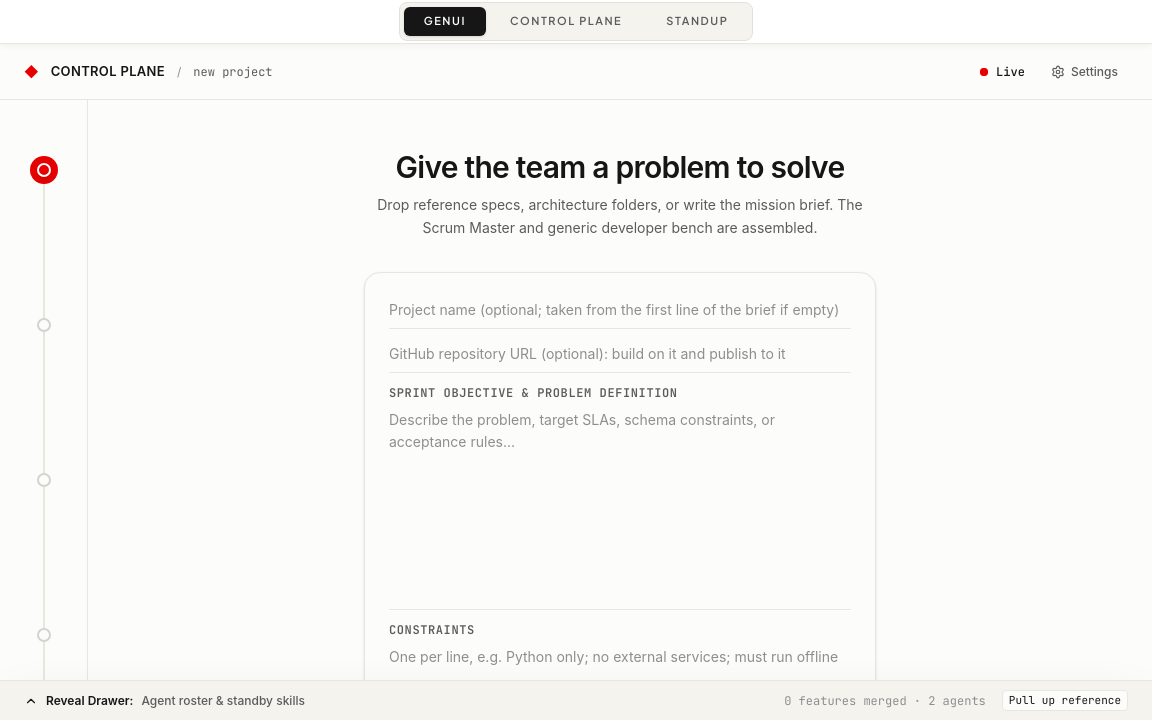
Scenario: the Memory tab › shows an agent's own memory separately from the project memory
What coordinates should you click on to do the following:
click the tab "Control Plane"
I would click on:
 (566, 22)
Its box is top-left (490, 7), bottom-right (642, 36).
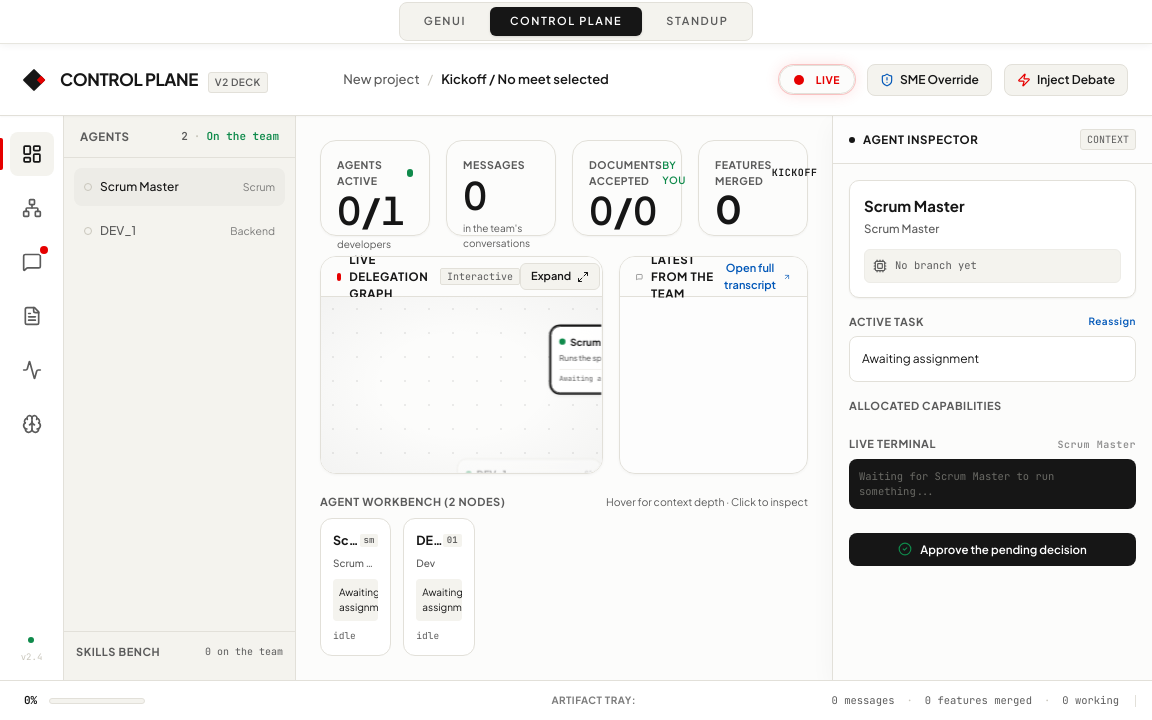
What coordinates should you click on to do the following:
click the button named "Memory — Project & Agent Knowledge"
I would click on:
 (32, 424)
Its box is top-left (10, 402), bottom-right (54, 446).
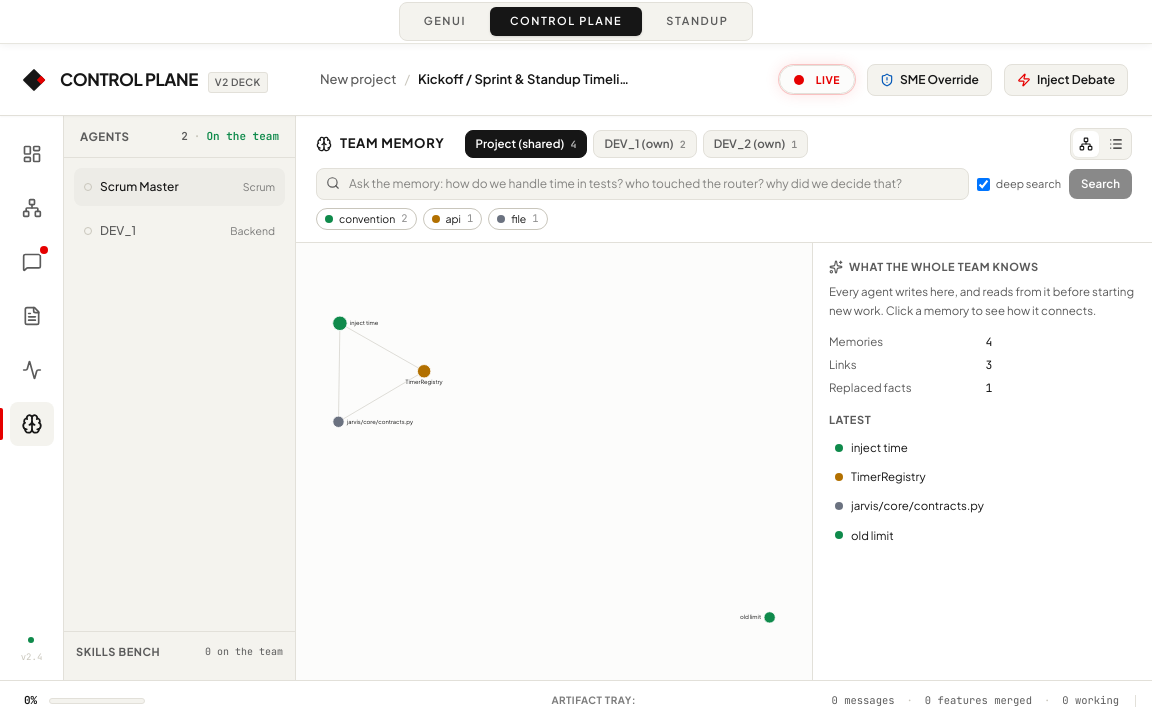
What coordinates should you click on to do the following:
click the tab "DEV_1 (own) 2"
I would click on:
 (645, 144)
Its box is top-left (593, 130), bottom-right (697, 158).
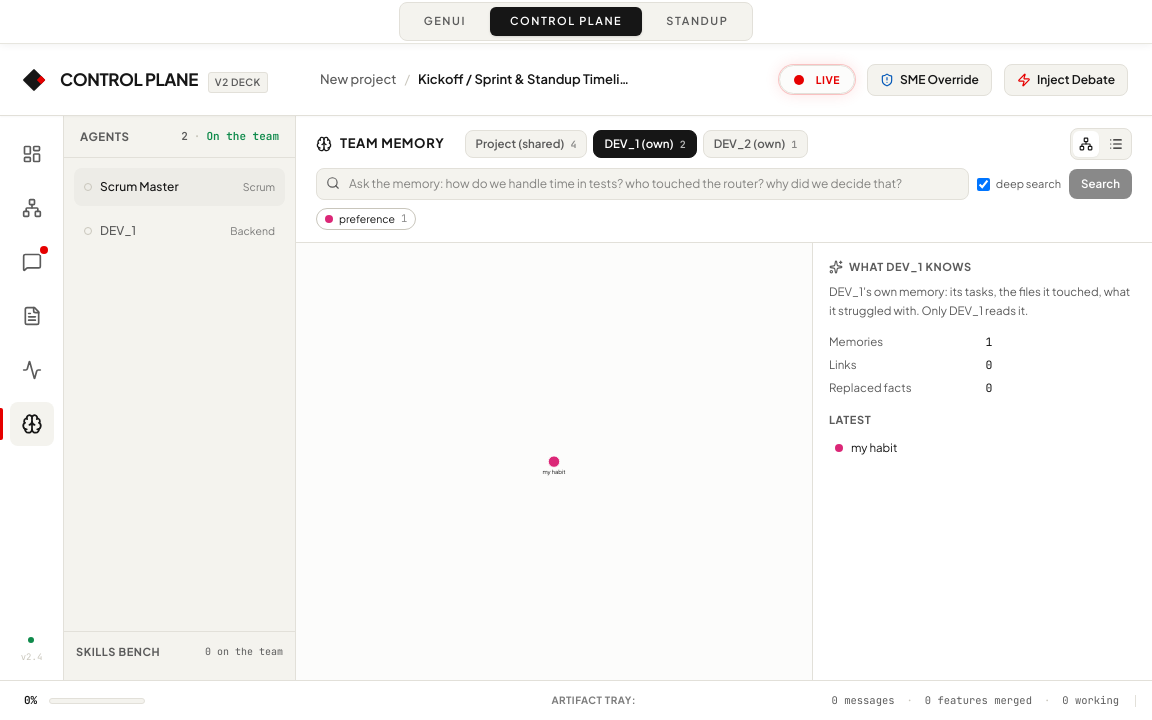
Expected: the button "preference: my habit" is shown, top-left (542, 467), bottom-right (566, 474)
Expected: the text "Only DEV_1 reads it" is shown, top-left (829, 284), bottom-right (1130, 318)
